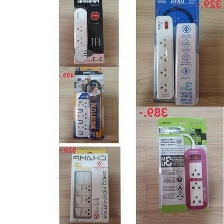book: (156, 115, 210, 214), (150, 0, 200, 106), (68, 148, 111, 224), (71, 66, 106, 141), (70, 0, 105, 64)
three_eye_plug: (153, 13, 177, 101), (181, 146, 209, 211), (72, 167, 95, 220), (71, 5, 89, 63), (74, 89, 90, 139)
